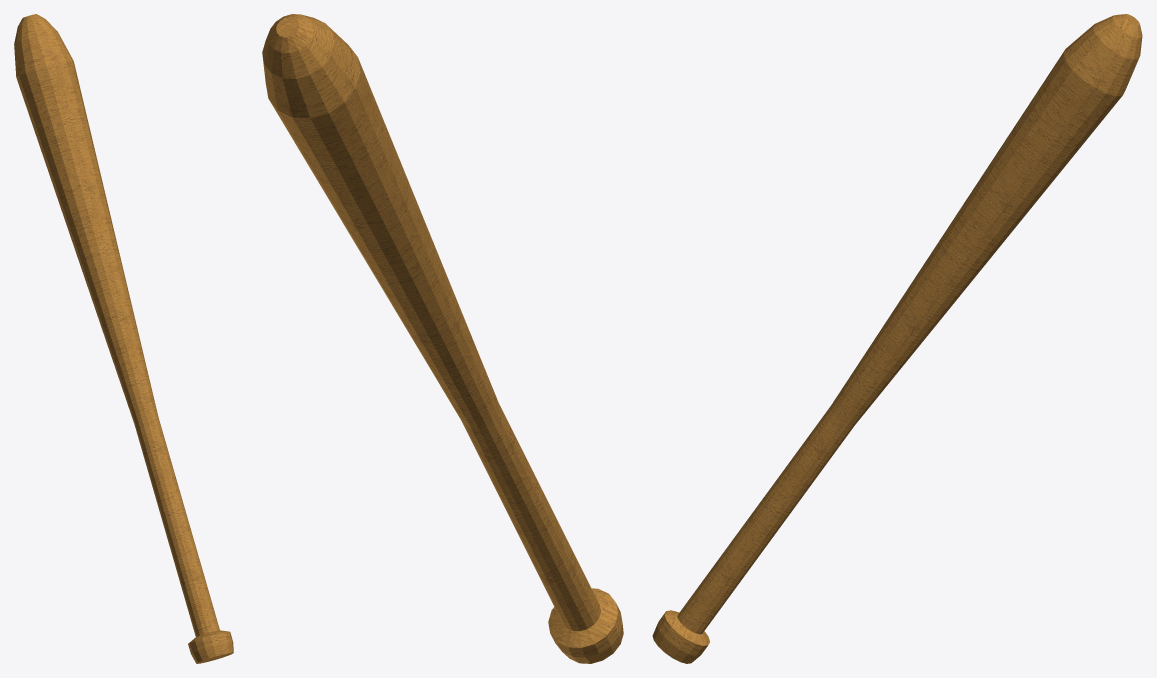
Rendered from Bat.fbx.
3 renders of one model, left to right at view 1: azimuth 30°, elevation 25°; view 2: azimuth 150°, elevation 25°; view 3: azimuth 270°, elevation 25°, orthographic. The views are drawn at different scales.
Visible parts, largest first — view 1: Cylinder; view 2: Cylinder; view 3: Cylinder.
Boxes of the visible parts, box(x1,y1,x2,y2) form: Cylinder: box(14, 14, 233, 663); Cylinder: box(262, 14, 623, 663); Cylinder: box(652, 14, 1142, 663).
Bounding box in the file's own units: 0.3452 × 3.3 × 2.27.
Materials: 1 (1 with a texture image).
